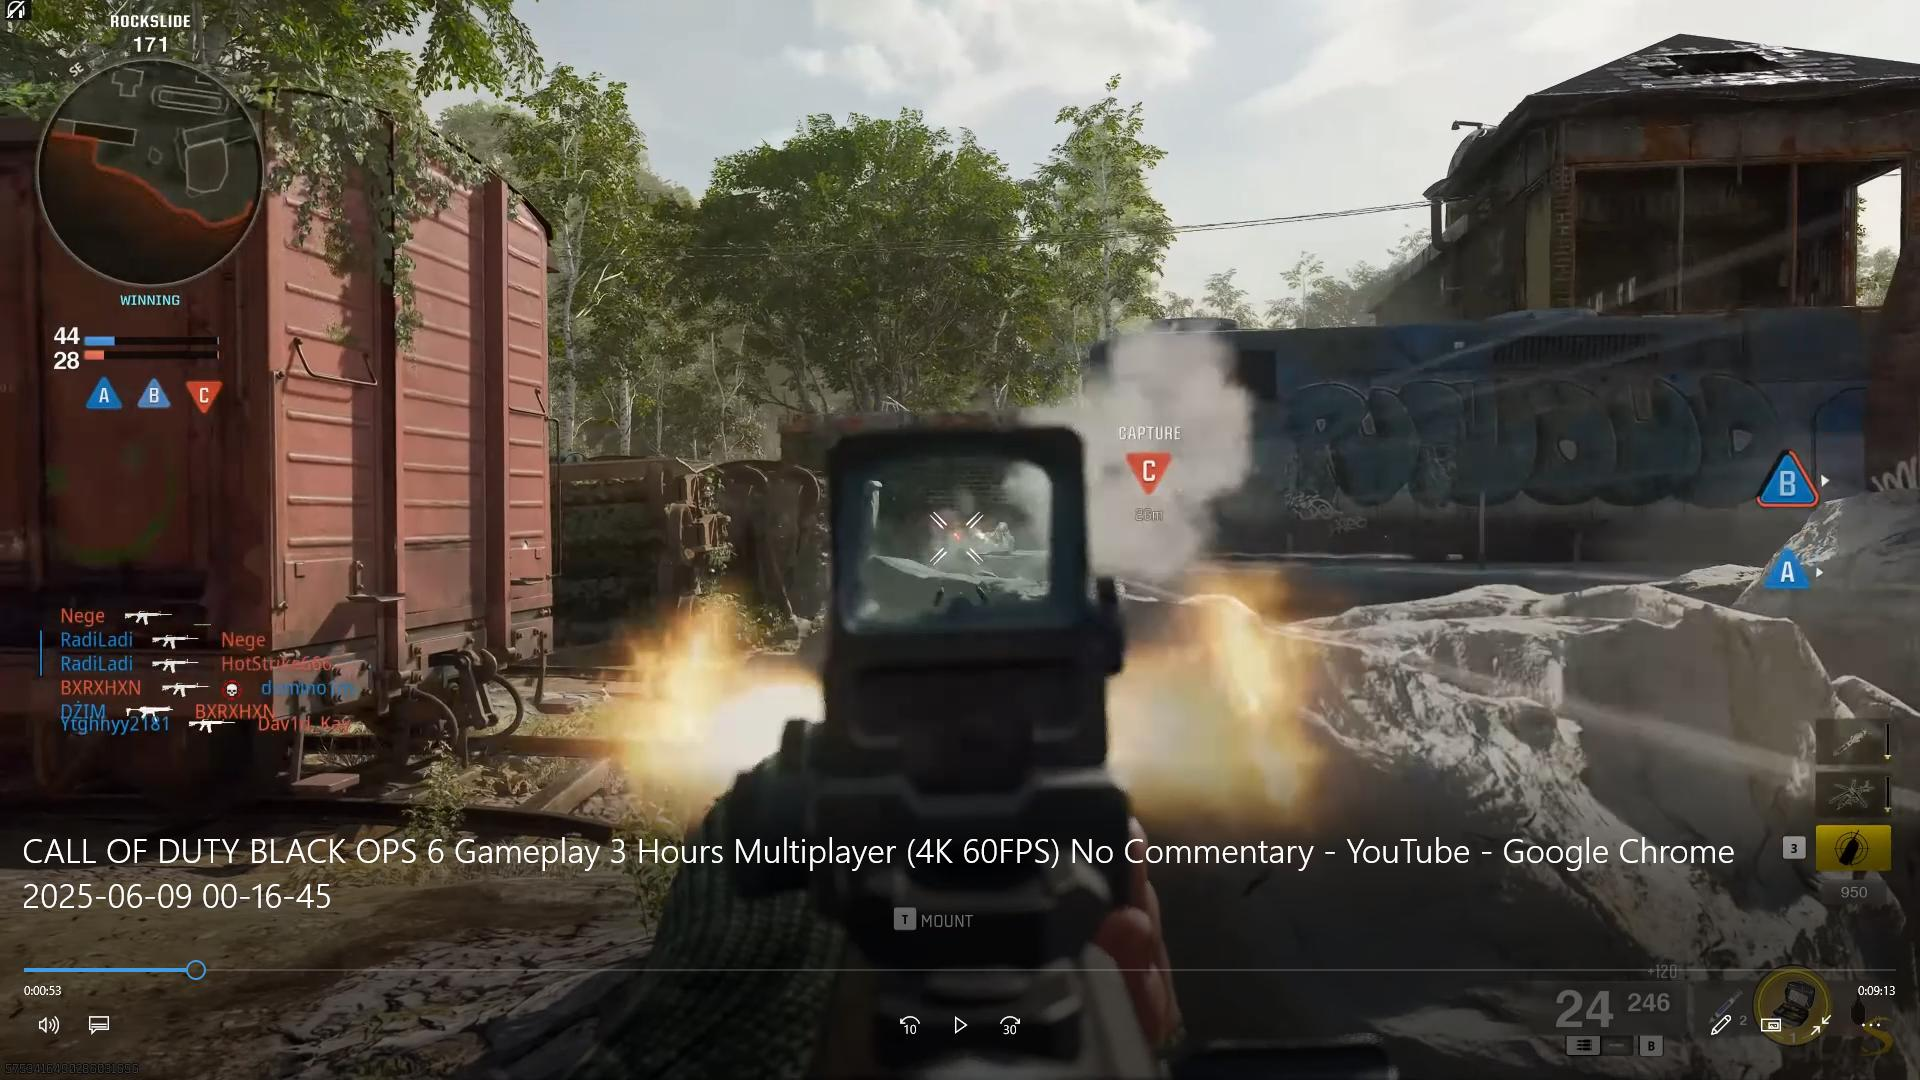Enemy: (972, 516, 1019, 551)
